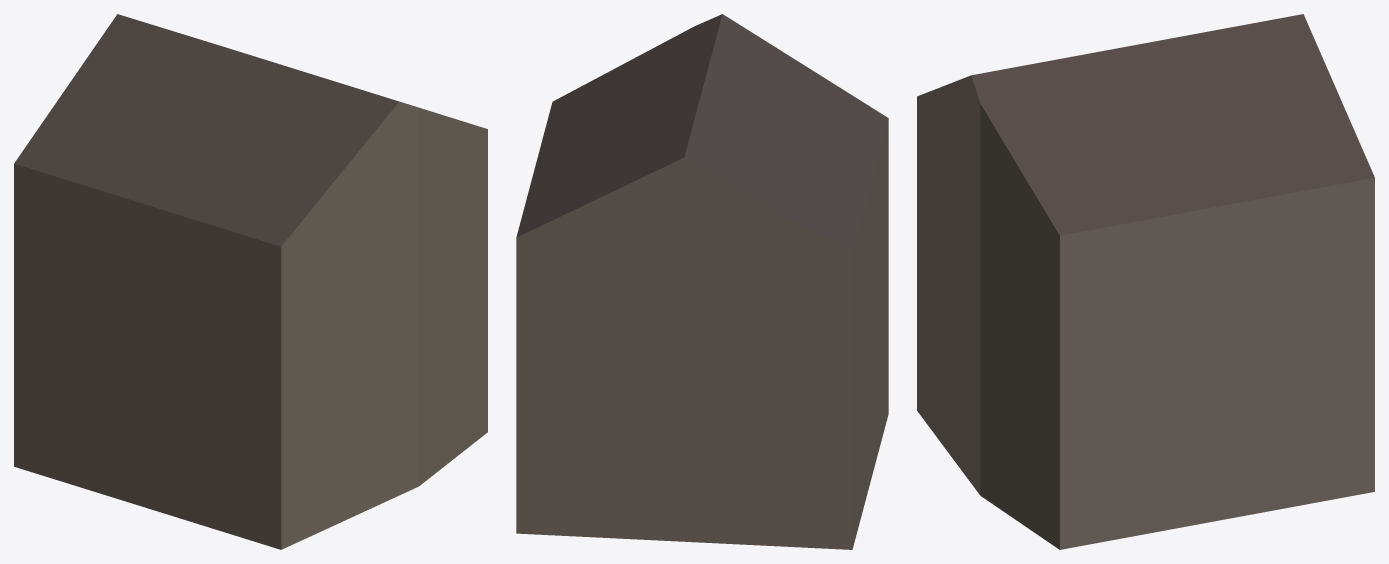
3 renders of one model, left to right at view 1: azimuth 30°, elevation 25°; view 2: azimuth 150°, elevation 25°; view 3: azimuth 270°, elevation 25°, orthographic. The views are drawn at different scales.
Visible parts, largest first — view 1: HP-w783664812; view 2: HP-w783664812; view 3: HP-w783664812.
Part boxes in pixels (x1,y1,x2,y2): HP-w783664812: (14,14,487,549); HP-w783664812: (516,14,888,549); HP-w783664812: (917,14,1374,549).
Bounding box in the file's own units: 8.09 × 7.8 × 7.93.
